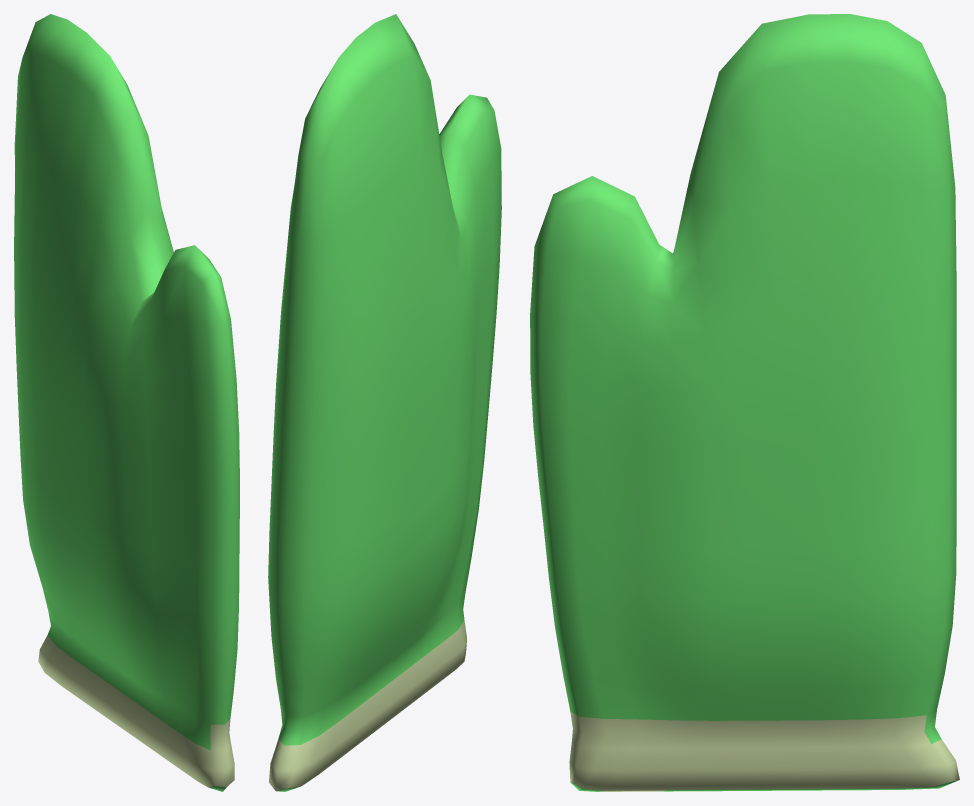
File: 3D_PU_ChouBouleTout.fbx
3 views of the same model, side by side, from view 1: azimuth 30°, elevation 25°; view 2: azimuth 150°, elevation 25°; view 3: azimuth 270°, elevation 25° (orthographic). The views are drawn at different scales.
Visible parts, largest first — view 1: Manet; view 2: Manet; view 3: Manet.
Part boxes in pixels (bbox=[...]): Manet: bbox=[14, 14, 239, 791]; Manet: bbox=[268, 14, 501, 791]; Manet: bbox=[530, 14, 959, 791].
Size of the model in its own units: 0.1236 by 0.8101 by 0.4144.
